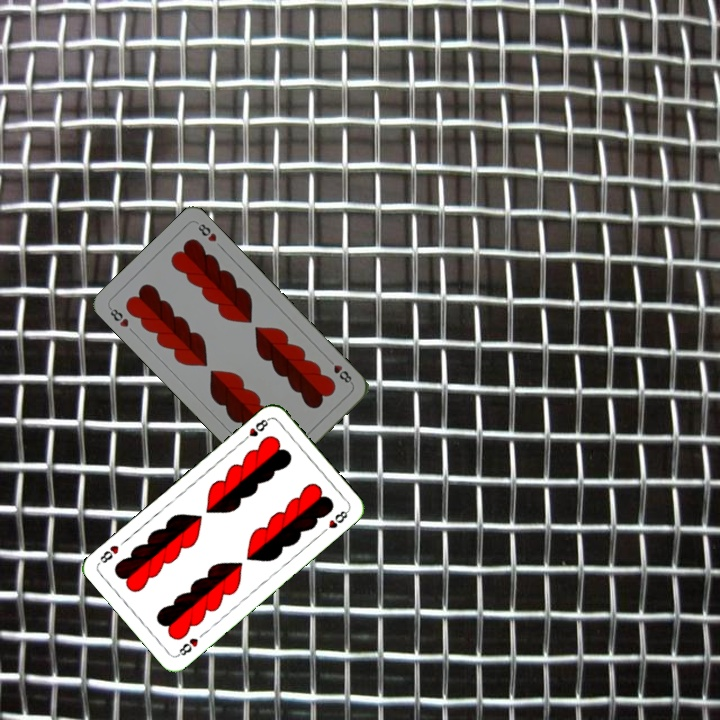H8: (323, 354, 355, 387), (238, 414, 272, 445), (105, 303, 131, 330), (173, 634, 201, 659)
